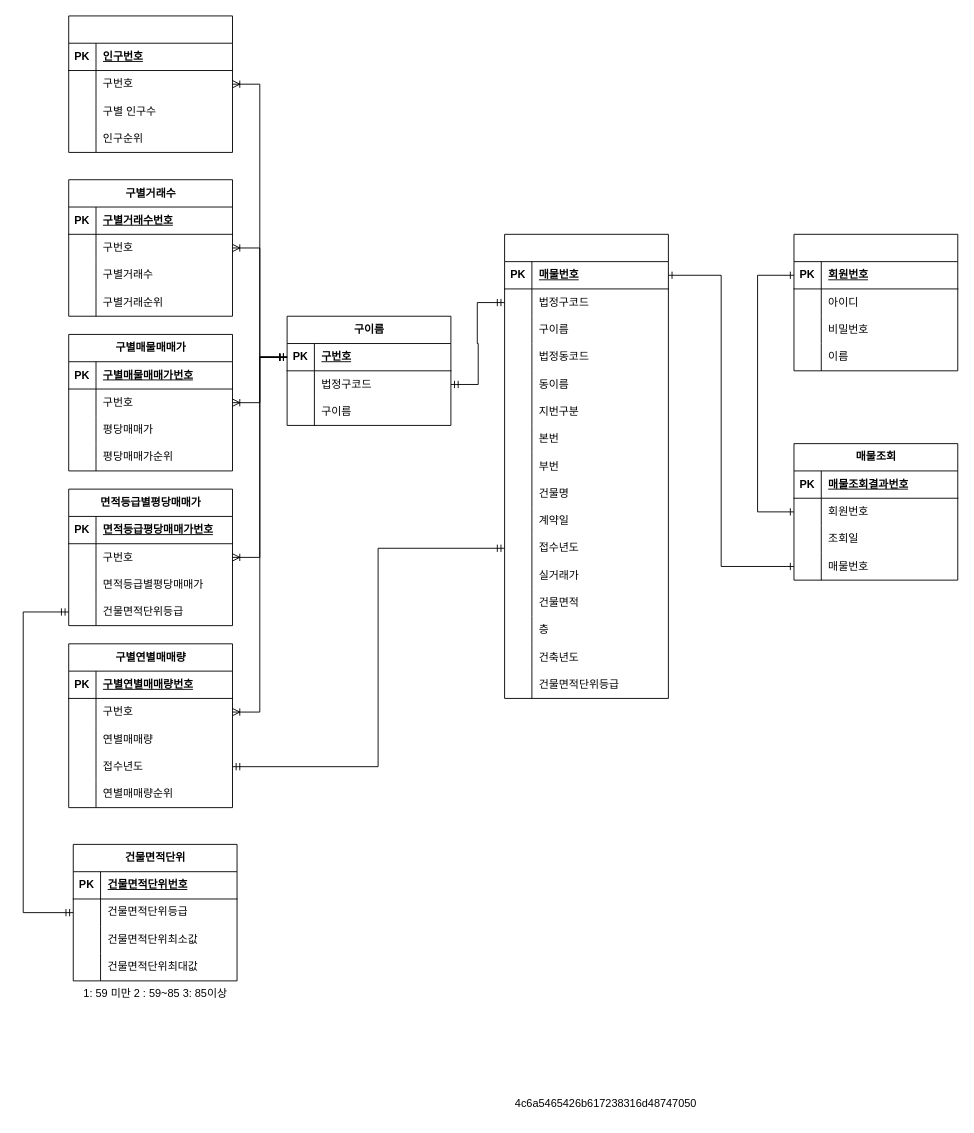
Some shapes in this 974 by 1133 pixel diagram are drawn without their labels. Here are the shapes that lost their labels. From the top down, the box of each, then its label:
(68, 15, 233, 152): 구별인구테이블
(793, 233, 958, 371): 로그인
(504, 233, 668, 698): 매물
